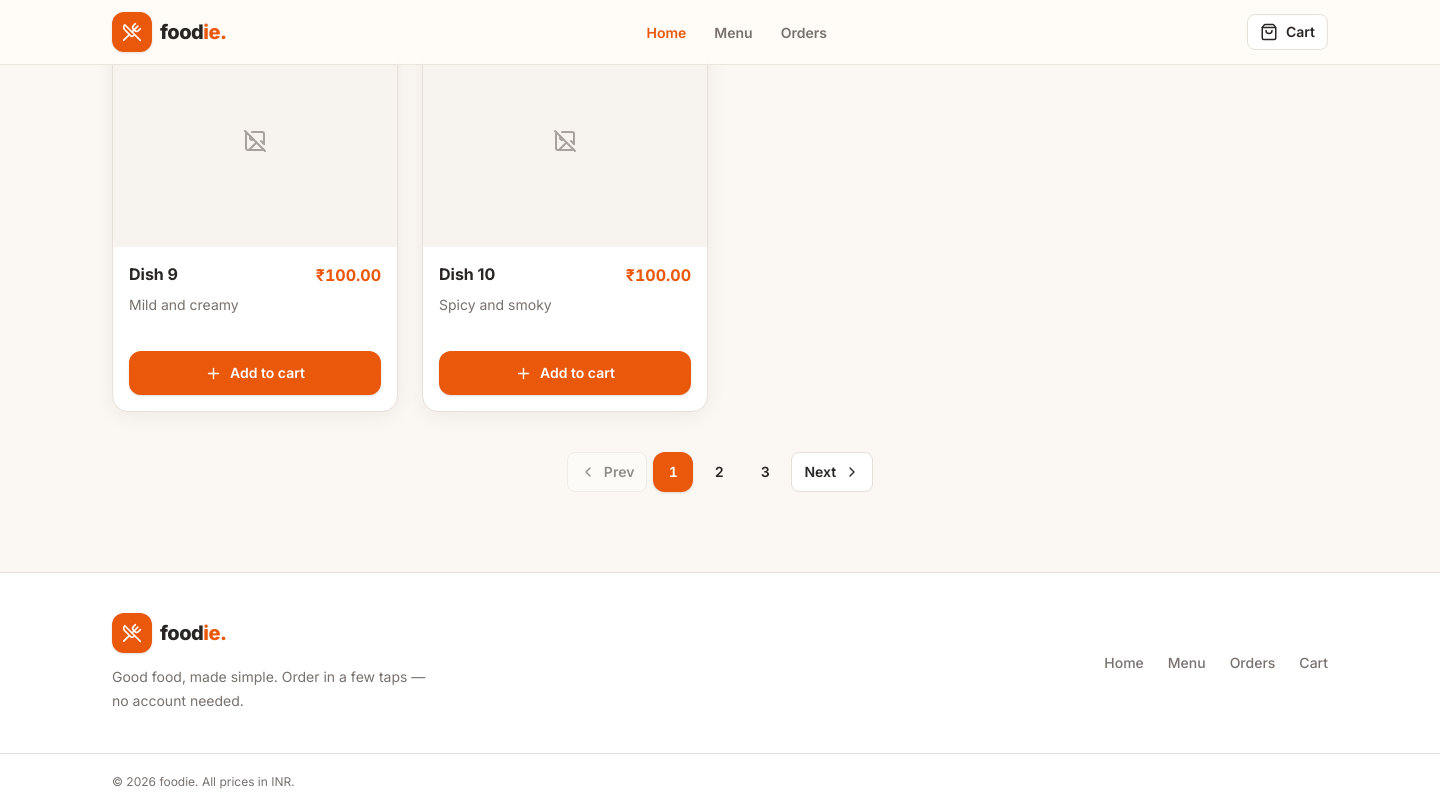
Test: Home page menu › pages through the menu, at most 10 items per request
(page scrolled)
Expected: the button with aria-label "Previous page" is disabled, x1=567 y1=452 x2=647 y2=492
What coordinates should you click on to do the following:
click the button with aria-label "Next page"
I would click on:
 (832, 472)
Its box is x1=791 y1=452 x2=873 y2=492.
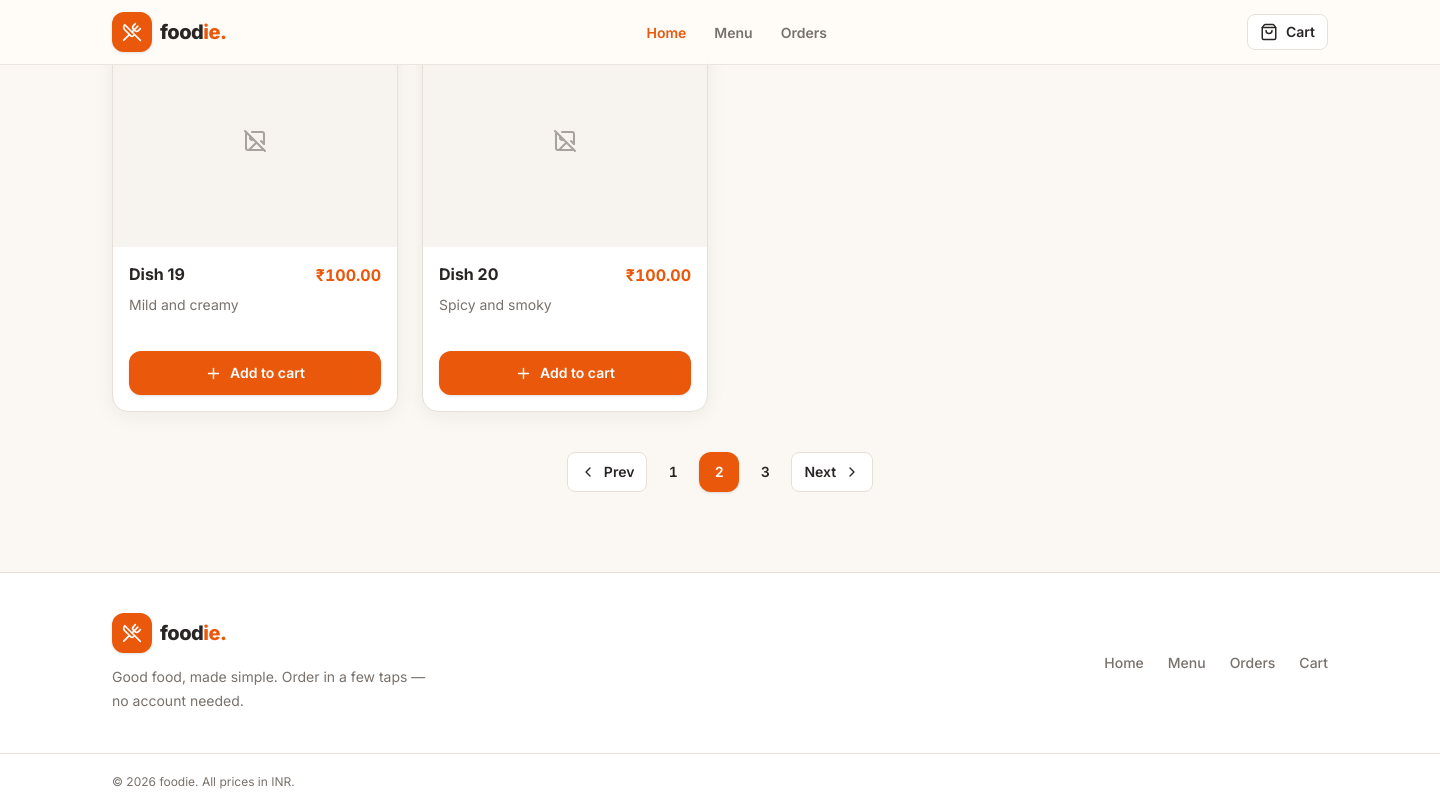
What coordinates should you click on to do the following:
click the button named "Page 3"
I would click on:
 (765, 472)
Its box is x1=745 y1=452 x2=785 y2=492.
(page scrolled)
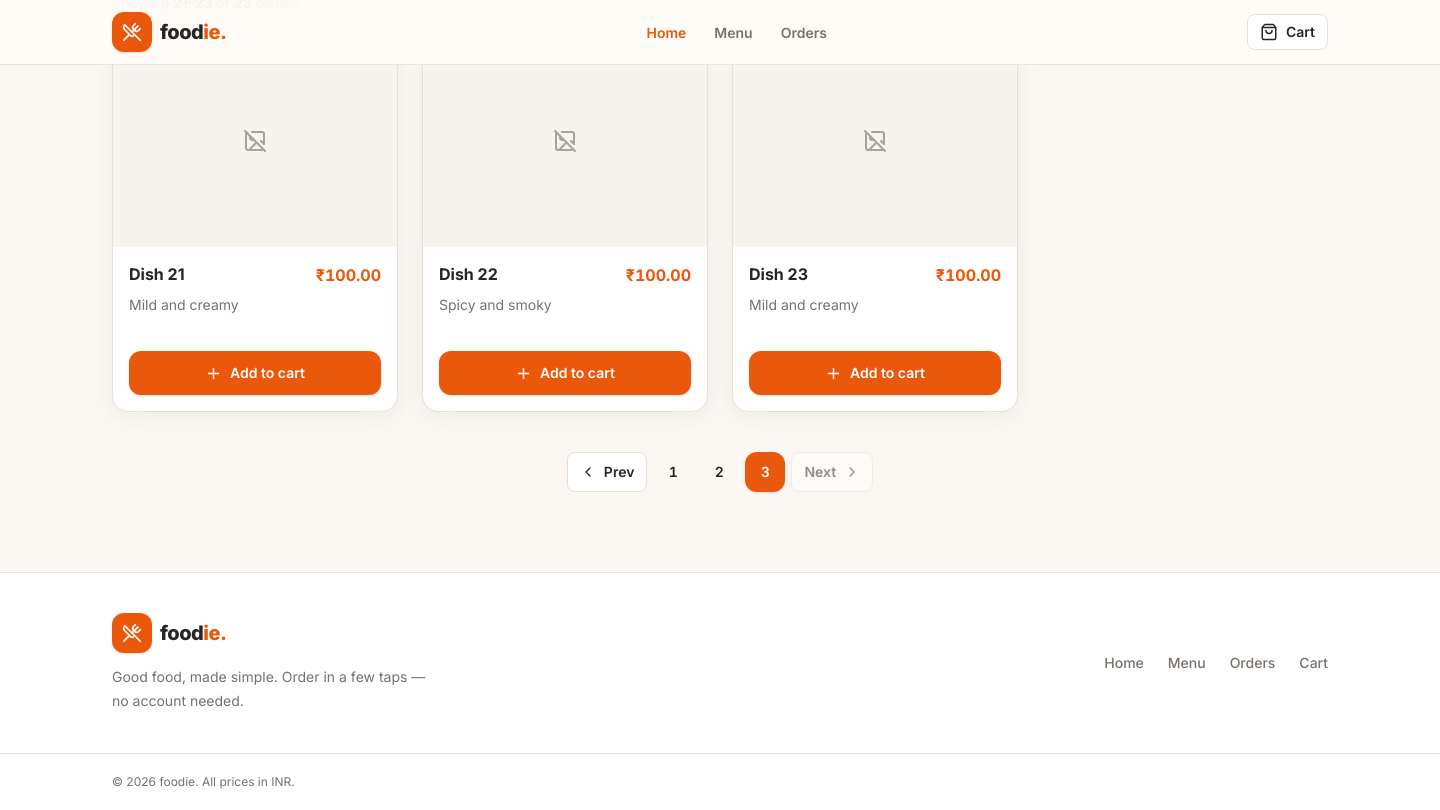
Expected: the heading "Dish 21" is shown, x1=129 y1=263 x2=185 y2=285
Expected: the button with aria-label "Next page" is disabled, x1=791 y1=452 x2=873 y2=492
